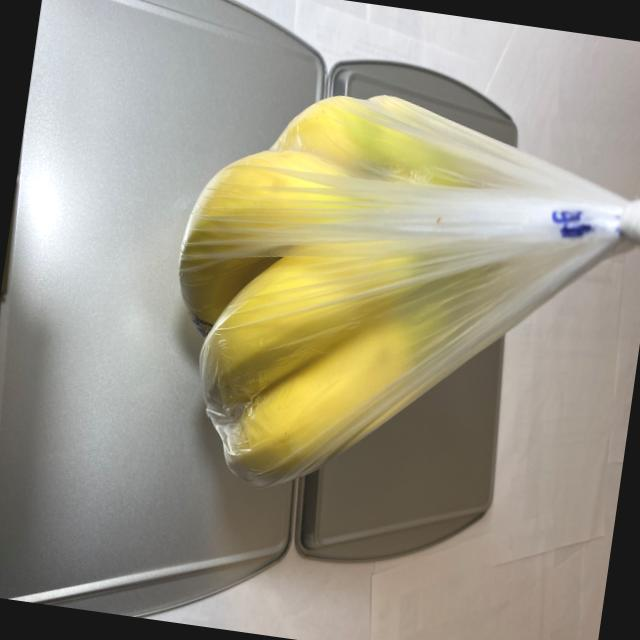banana: (145, 68, 514, 522)
